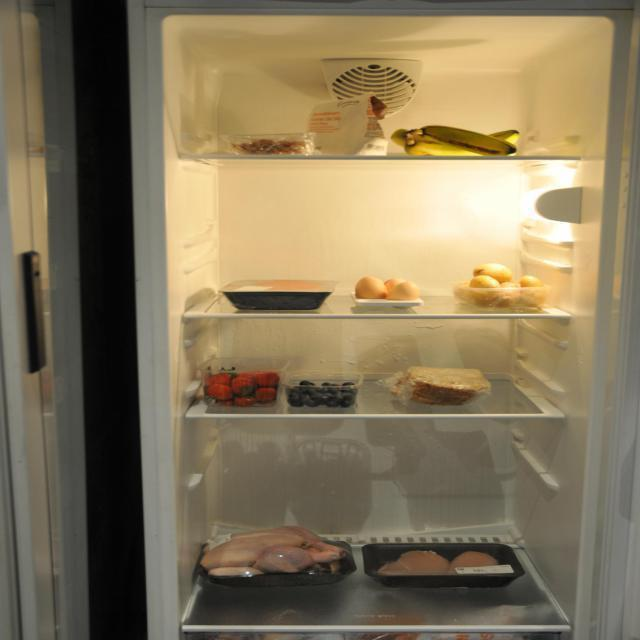banana: (389, 124, 522, 158)
blueberries: (288, 375, 360, 409)
bread: (402, 364, 488, 409)
chicken: (197, 523, 346, 580)
chicken_breast: (378, 548, 518, 578)
egg: (356, 276, 422, 306)
flour: (300, 91, 389, 156)
potato: (448, 262, 552, 306)
shrimp: (232, 135, 316, 157)
strawberries: (205, 367, 278, 407)
